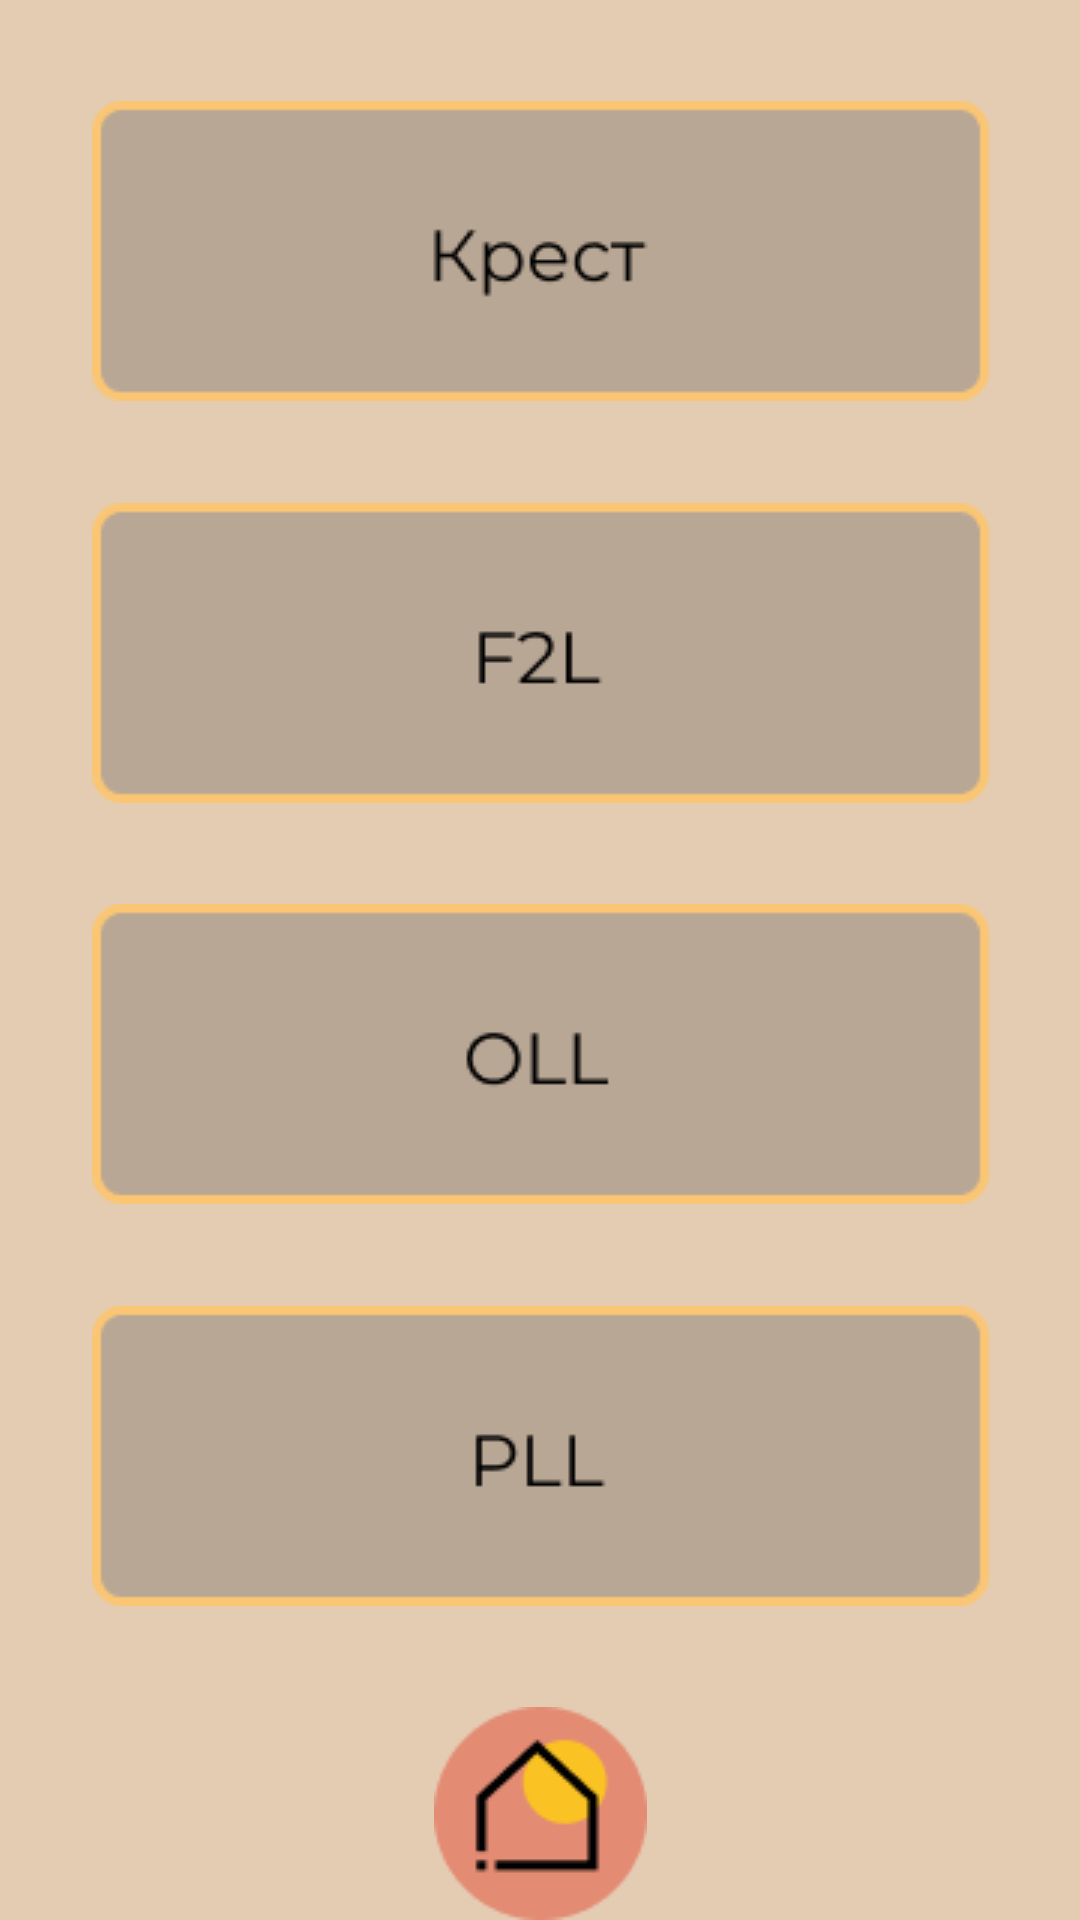

Icon bounding boxes for this 1080px x 1920px phone screenshot, format (x1, y1, x2, y2):
home: (434, 1707, 647, 1920)
